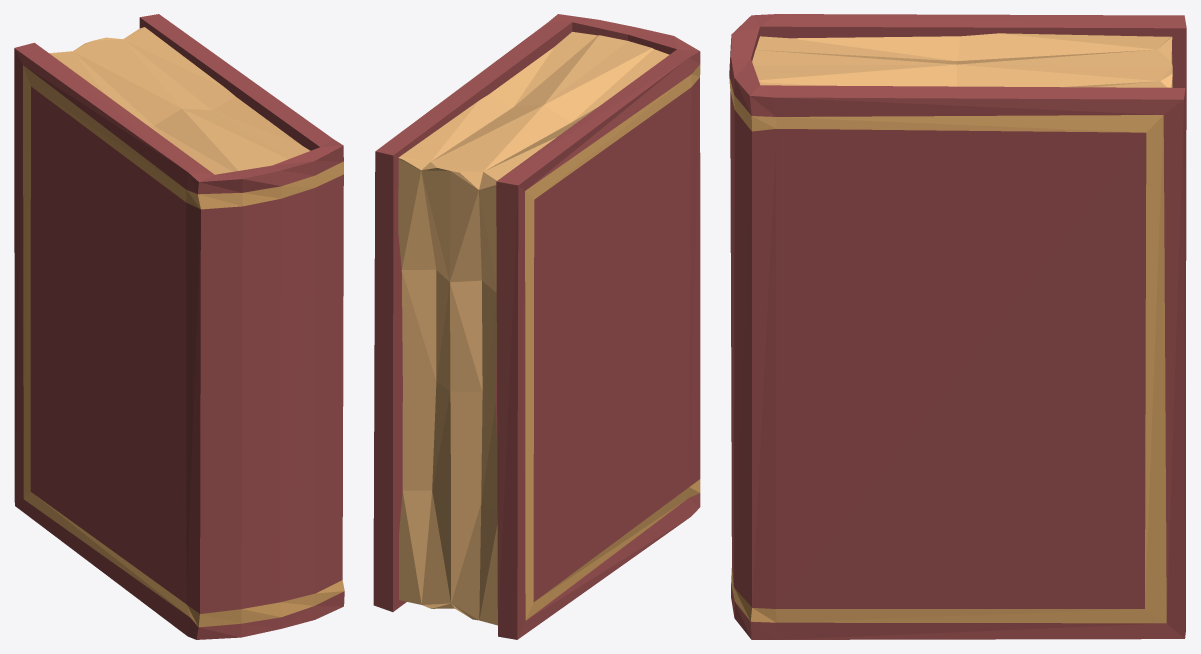
File: SFHW_Book_002.fbx
3 views of the same model, side by side, from view 1: azimuth 30°, elevation 25°; view 2: azimuth 150°, elevation 25°; view 3: azimuth 270°, elevation 25° (orthographic). The views are drawn at different scales.
Visible parts, largest first — view 1: SFHW_Book_002; view 2: SFHW_Book_002; view 3: SFHW_Book_002.
Boxes of the visible parts, left/top/right/bottom form: SFHW_Book_002: left=14, top=14, right=344, bottom=639; SFHW_Book_002: left=373, top=14, right=700, bottom=639; SFHW_Book_002: left=729, top=14, right=1186, bottom=639.
Bounding box in the file's own units: 10.63 × 31.55 × 23.99.
